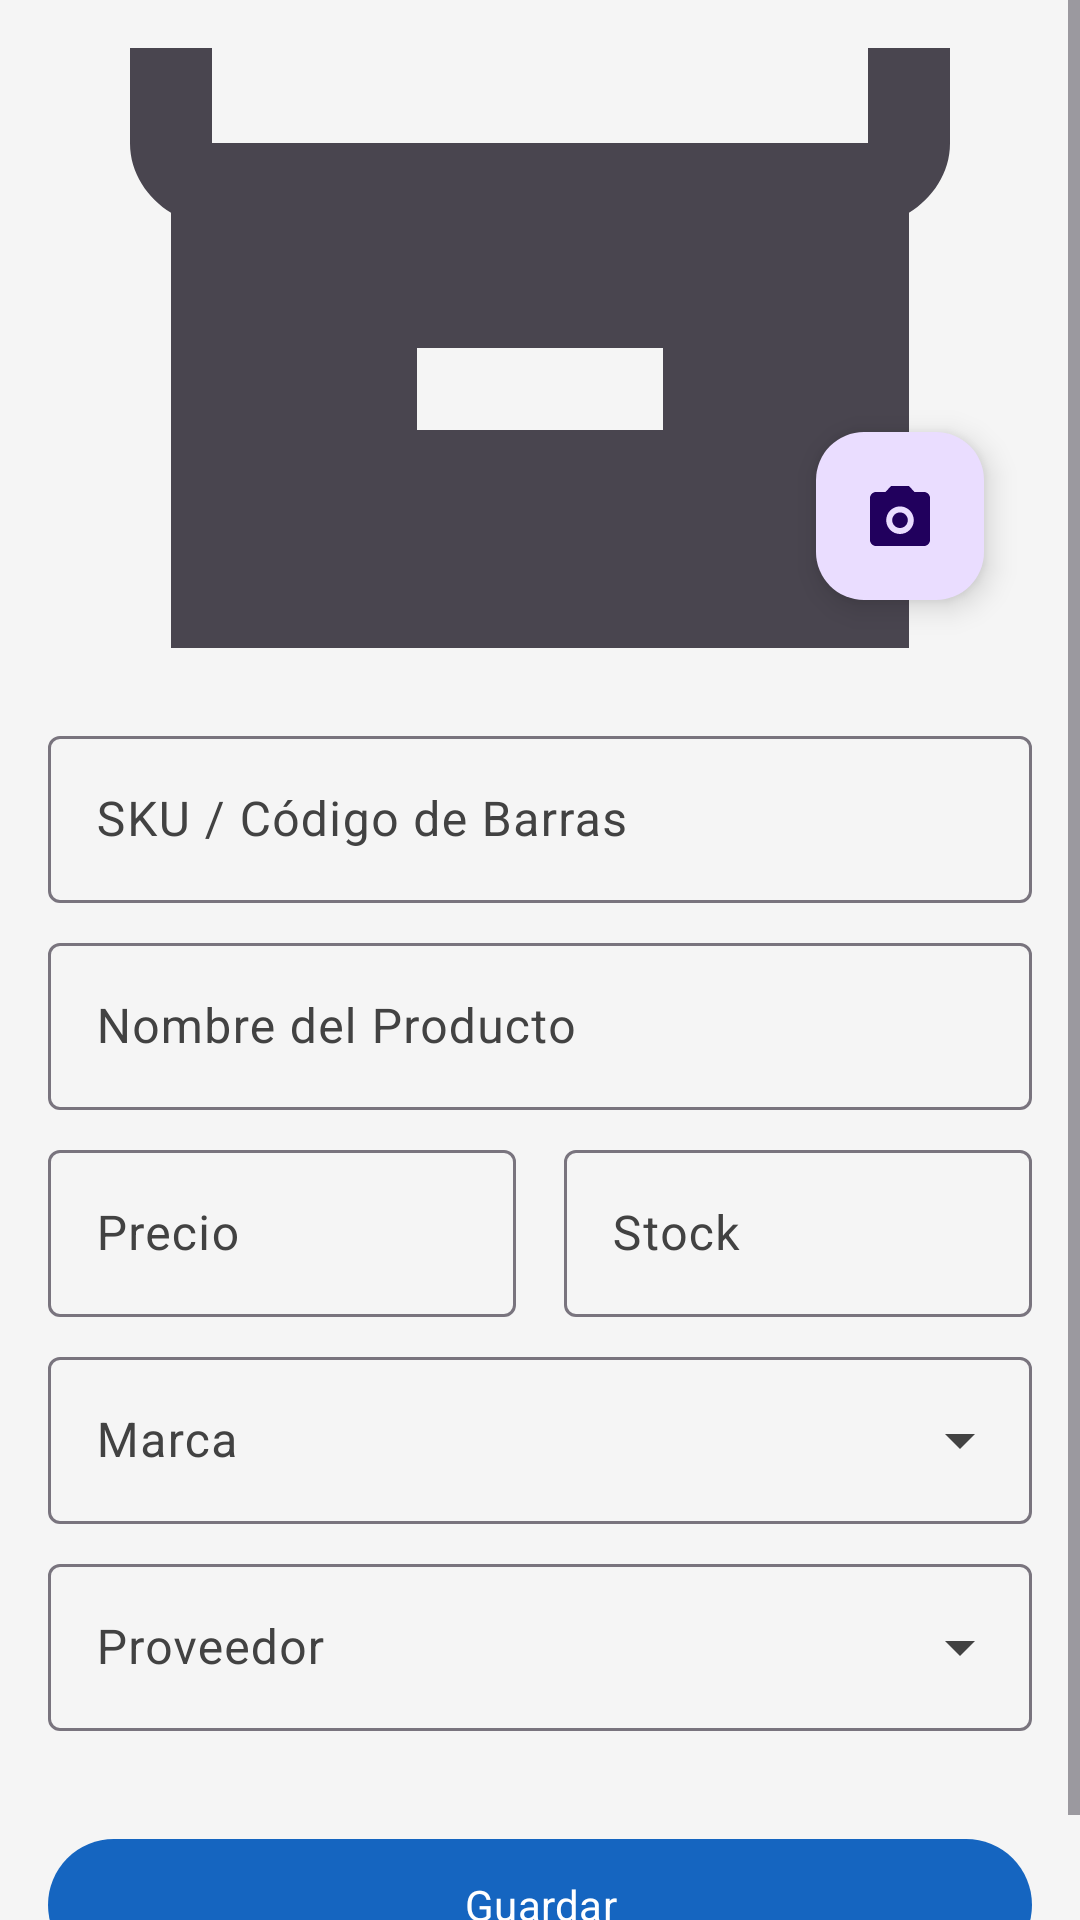

Icon click points for this 1080*1920 phone screenshot, format point (x, y):
photo camera: point (900, 516)
